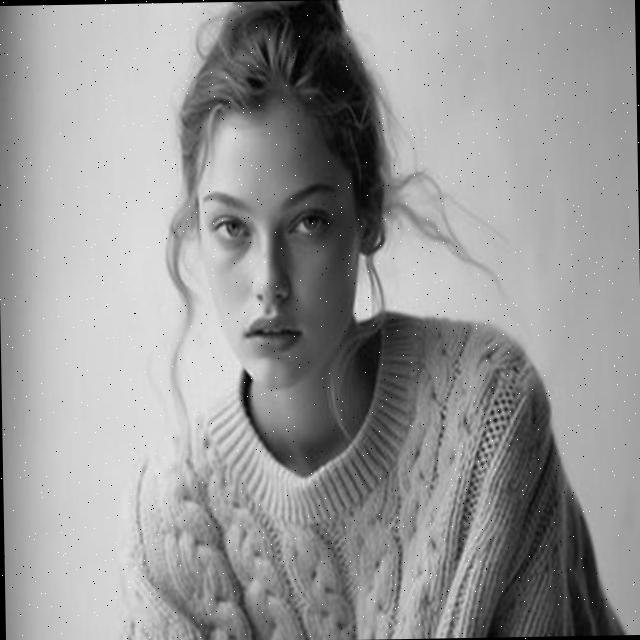Neutral: (198, 108, 360, 390)
